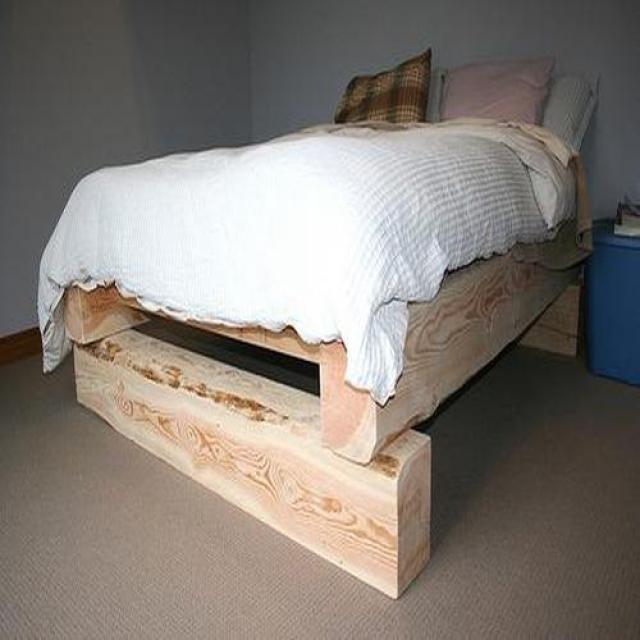bed: (36, 50, 599, 600)
